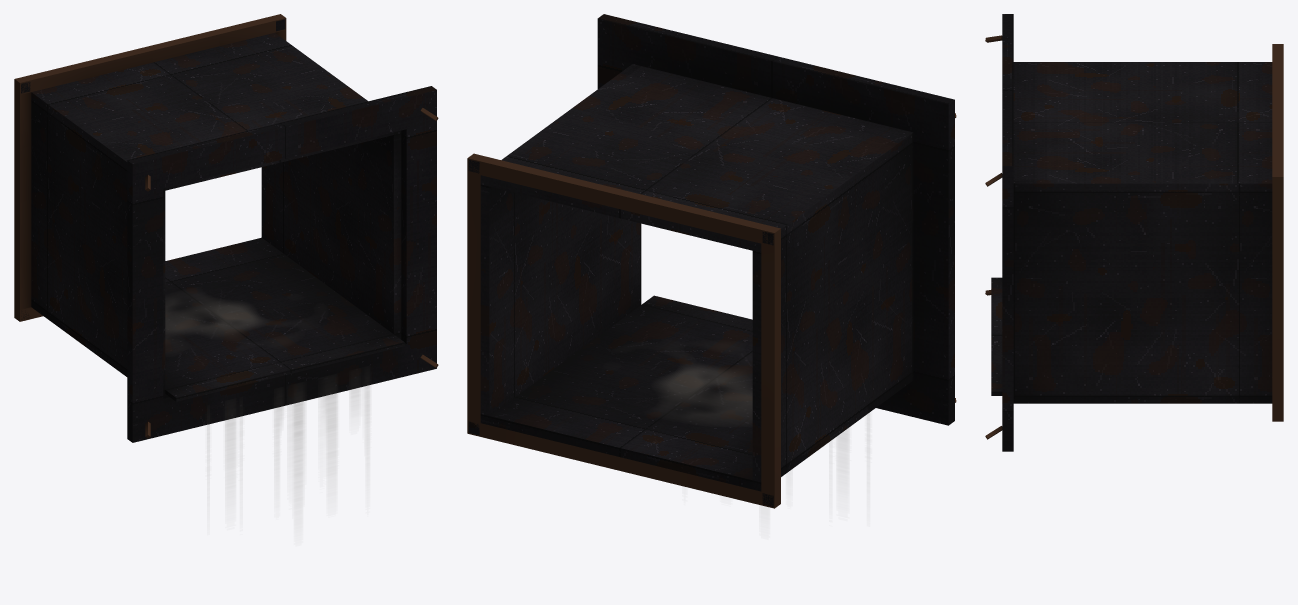
The model's file is duct_mouth.glb.
3 views of the same model, side by side, from view 1: azimuth 30°, elevation 25°; view 2: azimuth 150°, elevation 25°; view 3: azimuth 270°, elevation 25° (orthographic). The views are drawn at different scales.
Parts seen in each view (by area): view 1: body, decals; view 2: body, decals; view 3: body.
Part boxes in pixels (x1,y1,x2,y2): body: (14,14,438,442); decals: (165,295,368,476); body: (467,14,956,508); decals: (657,364,846,439); body: (985,14,1283,451).
Size of what is drawn, in the model's own units: 1.6 by 2.2 by 1.33.
5 materials, 4 textured.
